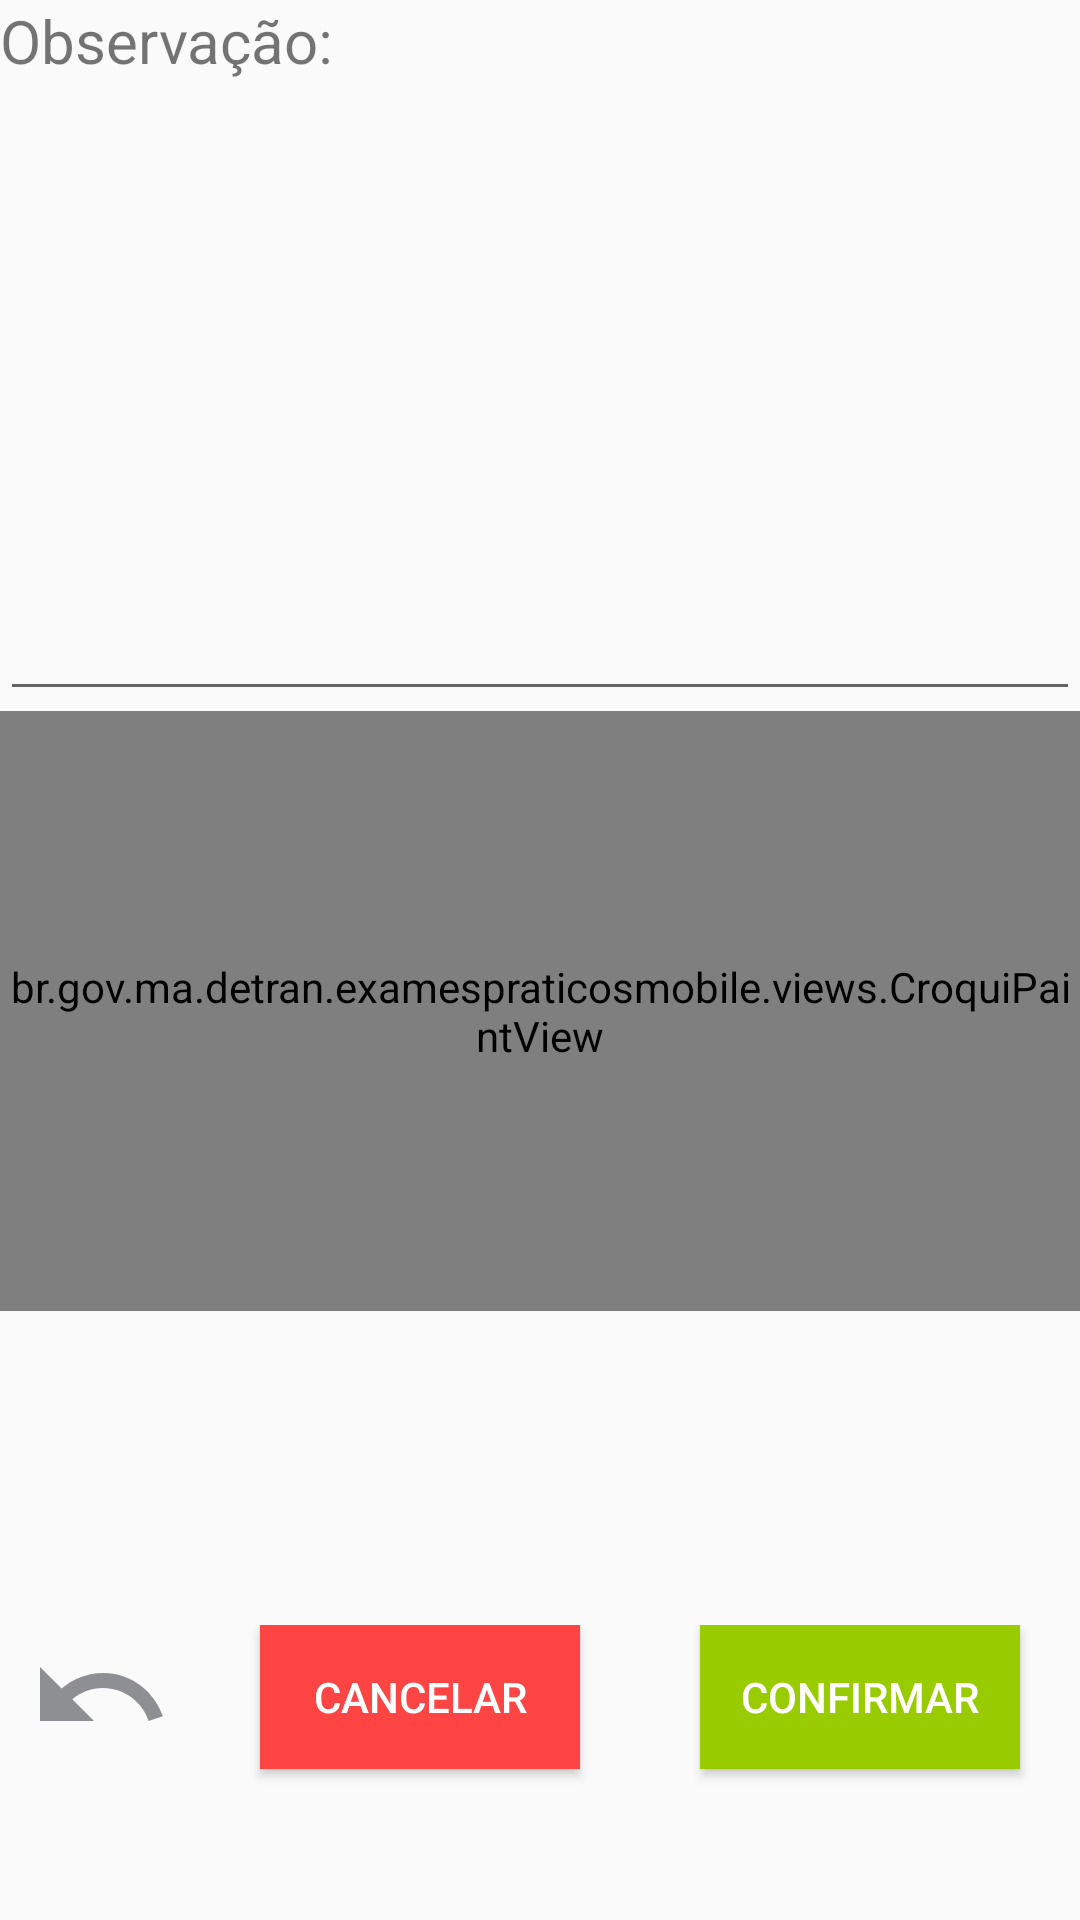

Screen size 1080×1920. Icon name, then its box in pixels as (x1, y1, x2, y2):
undo: (40, 1667, 163, 1721)
